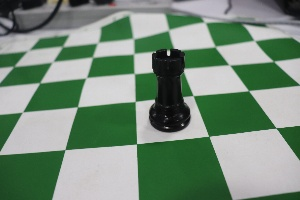black_rook: (141, 33, 194, 137)
